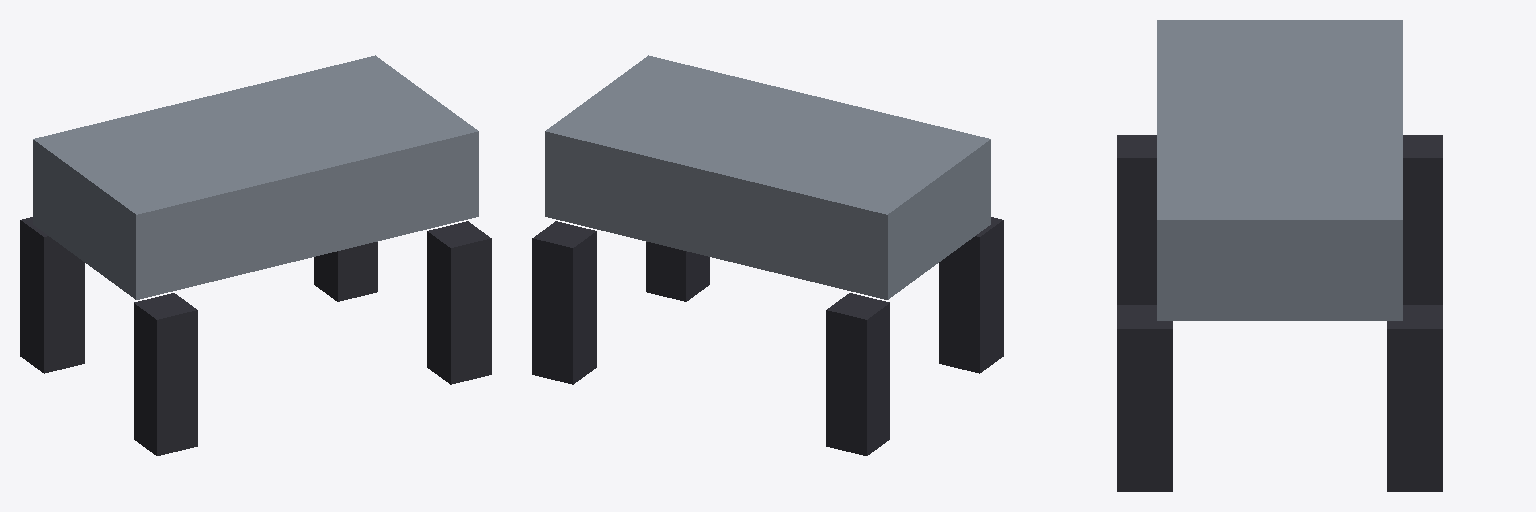
robot.urdf — go2_simple:
<?xml version="1.0"?>
<!-- 内置简易 Go2 外形（无 go2_description 包时使用），仅用于 map_viewer / RViz 显示 -->
<robot name="go2_simple">
  <material name="body_gray">
    <color rgba="0.55 0.58 0.62 1.0"/>
  </material>
  <material name="leg_dark">
    <color rgba="0.25 0.25 0.28 1.0"/>
  </material>

  <link name="base_link">
    <visual>
      <origin xyz="0 0 0.12" rpy="0 0 0"/>
      <geometry>
        <box size="0.42 0.22 0.10"/>
      </geometry>
      <material name="body_gray"/>
    </visual>
  </link>

  <link name="fl_hip">
    <visual>
      <origin xyz="0 0 -0.08" rpy="0 0 0"/>
      <geometry>
        <box size="0.05 0.05 0.16"/>
      </geometry>
      <material name="leg_dark"/>
    </visual>
  </link>
  <joint name="fl_hip_joint" type="fixed">
    <parent link="base_link"/>
    <child link="fl_hip"/>
    <origin xyz="0.18 0.12 0.06" rpy="0 0 0"/>
  </joint>

  <link name="fr_hip">
    <visual>
      <origin xyz="0 0 -0.08" rpy="0 0 0"/>
      <geometry>
        <box size="0.05 0.05 0.16"/>
      </geometry>
      <material name="leg_dark"/>
    </visual>
  </link>
  <joint name="fr_hip_joint" type="fixed">
    <parent link="base_link"/>
    <child link="fr_hip"/>
    <origin xyz="0.18 -0.12 0.06" rpy="0 0 0"/>
  </joint>

  <link name="rl_hip">
    <visual>
      <origin xyz="0 0 -0.08" rpy="0 0 0"/>
      <geometry>
        <box size="0.05 0.05 0.16"/>
      </geometry>
      <material name="leg_dark"/>
    </visual>
  </link>
  <joint name="rl_hip_joint" type="fixed">
    <parent link="base_link"/>
    <child link="rl_hip"/>
    <origin xyz="-0.18 0.12 0.06" rpy="0 0 0"/>
  </joint>

  <link name="rr_hip">
    <visual>
      <origin xyz="0 0 -0.08" rpy="0 0 0"/>
      <geometry>
        <box size="0.05 0.05 0.16"/>
      </geometry>
      <material name="leg_dark"/>
    </visual>
  </link>
  <joint name="rr_hip_joint" type="fixed">
    <parent link="base_link"/>
    <child link="rr_hip"/>
    <origin xyz="-0.18 -0.12 0.06" rpy="0 0 0"/>
  </joint>
</robot>

--- What the picture shows (computed from the rendered views, not written in the file) ---
Views: 3 orthographic renders of the robot side by side, from view 1: azimuth 30°, elevation 25°; view 2: azimuth 150°, elevation 25°; view 3: azimuth 270°, elevation 25°.
Model go2_simple with 5 links and 4 joints (4 fixed), rooted at base_link, posed every joint at zero.
Visible links, largest first — view 1: base_link, fr_hip, rr_hip, rl_hip, fl_hip; view 2: base_link, fl_hip, rl_hip, rr_hip, fr_hip; view 3: base_link, fl_hip, fr_hip, rl_hip, rr_hip.
Link boxes in pixels (<box>): base_link: <box>33,55,478,299</box>; fr_hip: <box>427,221,491,384</box>; rr_hip: <box>134,293,197,455</box>; rl_hip: <box>20,217,84,373</box>; fl_hip: <box>314,242,377,301</box>; base_link: <box>545,55,990,299</box>; fl_hip: <box>532,221,596,384</box>; rl_hip: <box>826,293,889,455</box>; rr_hip: <box>939,217,1003,373</box>; fr_hip: <box>646,242,709,301</box>; base_link: <box>1157,20,1402,320</box>; fl_hip: <box>1387,305,1442,491</box>; fr_hip: <box>1117,305,1172,491</box>; rl_hip: <box>1403,135,1442,304</box>; rr_hip: <box>1117,135,1156,304</box>.
Bounding box of the posed robot: 0.42 × 0.29 × 0.27 m (x, y, z).
Geometry: primitives only (box / cylinder / sphere), no mesh files.
